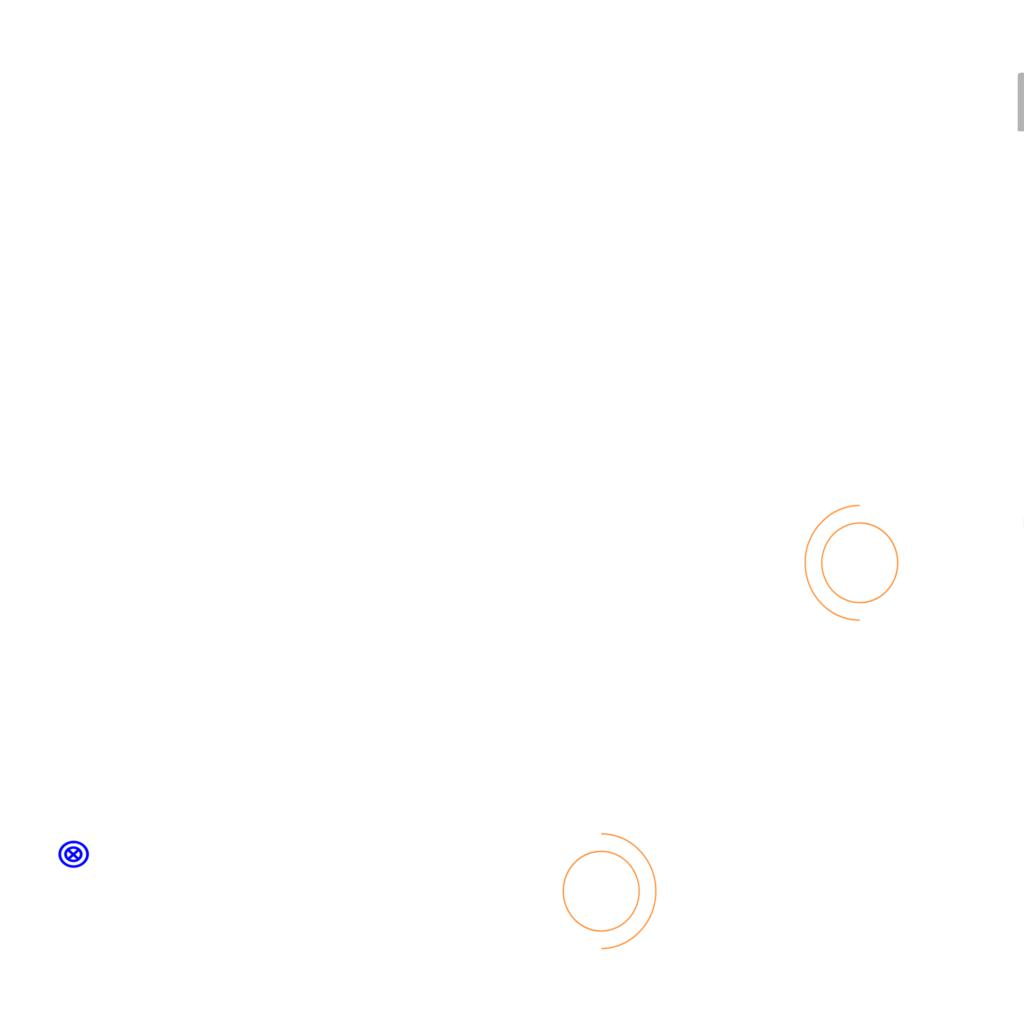Scheinwerfer_fuer_Alarmbeleuchtung: (550, 822, 662, 954), (799, 500, 911, 632)
Taster_beleuchtet: (57, 838, 90, 871)
